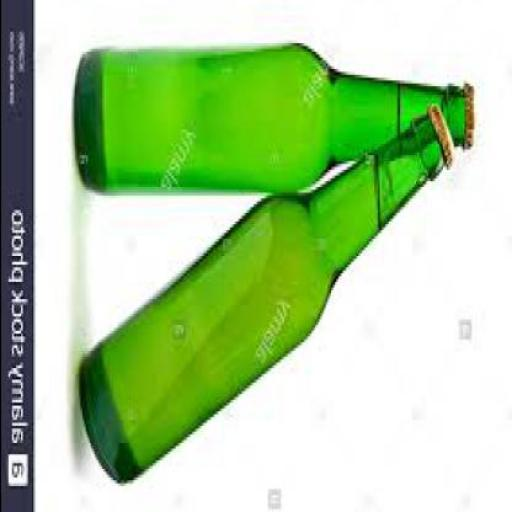glass: (81, 118, 446, 489), (73, 52, 467, 196)
metal: (431, 109, 454, 170), (463, 89, 476, 150)
